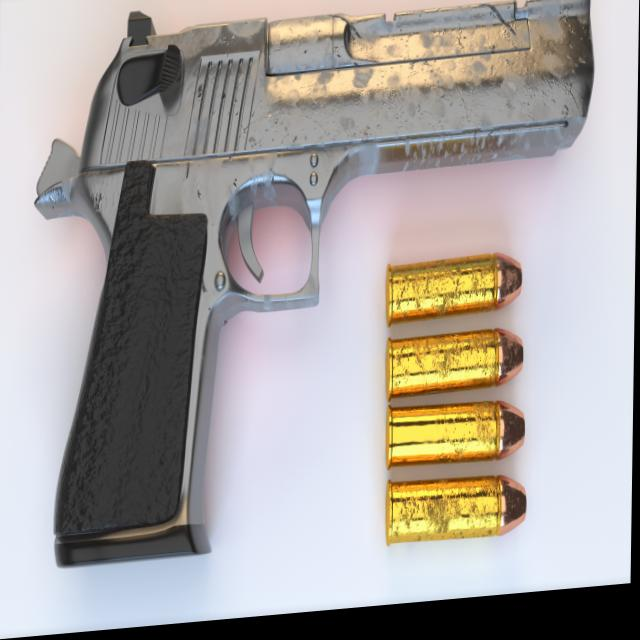handgun: (8, 0, 599, 590)
